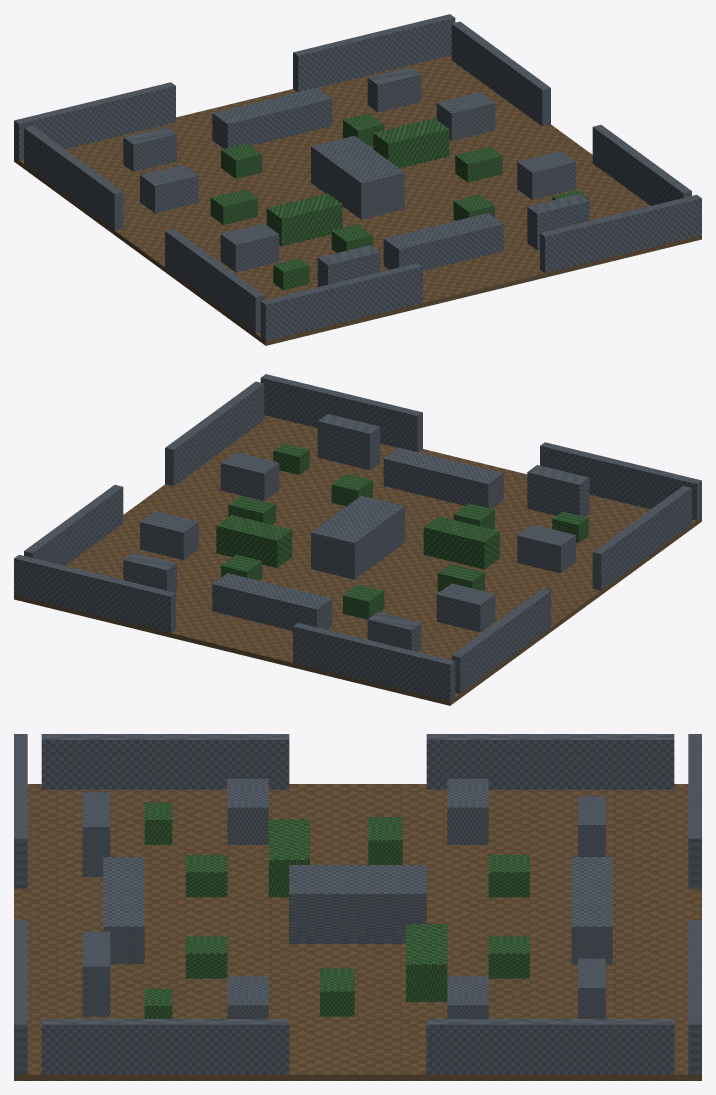
Rendered from fps_stage01.gltf.
The picture shows the model from 3 angles, top to bottom: view 1: azimuth 30°, elevation 25°; view 2: azimuth 150°, elevation 25°; view 3: azimuth 270°, elevation 25°; orthographic projection. The views are drawn at different scales.
Parts seen in each view (by area): view 1: Floor, SouthWall_L, SouthWall_R, NorthWall_R, NorthWall_L, MidBar_NS, TopLedge_N, TopLedge_S, WestWall_T, EastWall_T, WestWall_B, EastWall_B (+17 smaller); view 2: Floor, NorthWall_L, NorthWall_R, SouthWall_R, MidBar_NS, SouthWall_L, TopLedge_S, TopLedge_N, WestWall_B, EastWall_B, WestWall_T, EastWall_T (+18 smaller); view 3: Floor, EastWall_B, EastWall_T, WestWall_B, WestWall_T, MidBar_NS, TopLedge_N, TopLedge_S, MidBar_E, Cover_1_R, Cover_3_R, MidBar_W (+18 smaller).
Part boxes in pixels (x1,y1,x2,y2): Floor: (14,55,701,345); SouthWall_L: (260,263,422,341); SouthWall_R: (540,195,701,272); NorthWall_R: (293,14,455,92); NorthWall_L: (14,82,175,160); MidBar_NS: (311,135,404,219); TopLedge_N: (212,87,332,148); TopLedge_S: (383,213,503,270); WestWall_T: (24,125,123,230); EastWall_T: (451,21,550,126); WestWall_B: (165,229,264,333); EastWall_B: (592,125,691,205); Floor: (14,415,701,705); NorthWall_L: (293,623,455,701); NorthWall_R: (14,555,175,632); SouthWall_R: (260,374,422,452); MidBar_NS: (311,495,404,579); SouthWall_L: (540,442,701,520); TopLedge_S: (383,447,503,508); TopLedge_N: (212,573,332,630); WestWall_B: (592,485,691,590); EastWall_B: (165,381,264,486); WestWall_T: (451,589,550,693); EastWall_T: (24,485,123,565); Floor: (14,784,701,1080); EastWall_B: (41,1019,289,1074); EastWall_T: (426,1019,674,1074); WestWall_B: (41,734,289,789); WestWall_T: (426,734,674,789); MidBar_NS: (289,865,426,943); TopLedge_N: (571,857,612,964); TopLedge_S: (103,857,144,964); MidBar_E: (406,924,447,1001); Cover_1_R: (447,778,488,844); Cover_3_R: (227,778,268,844); MidBar_W: (268,819,309,897).
Size of the model in its own units: 100 by 9 by 100.
